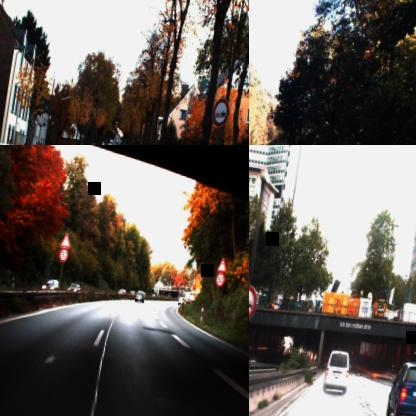no overtaking: (249, 281, 258, 320)
no overtaking (trucks): (210, 96, 230, 128)
speed limit 50: (57, 246, 69, 262), (214, 272, 225, 288)
traffic signal: (59, 231, 72, 249), (216, 256, 228, 272)
